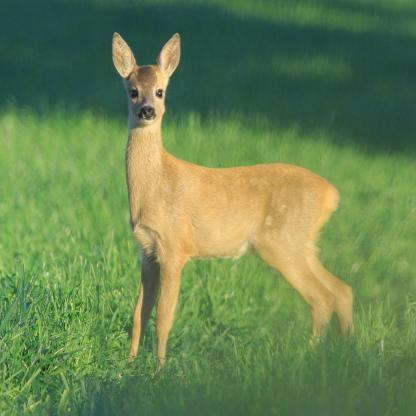Deer: (111, 32, 359, 378)
